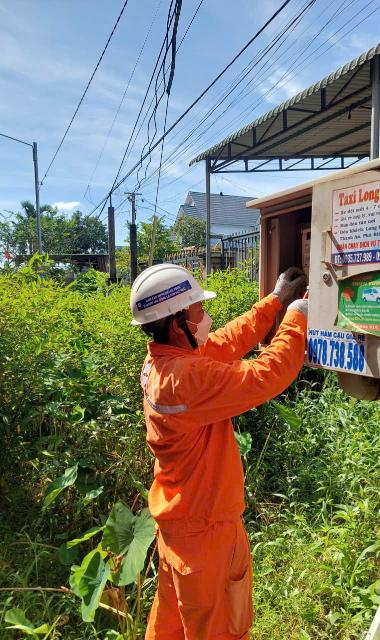gloves: (255, 263, 305, 300), (282, 298, 321, 317)
helmet: (106, 264, 224, 323)
